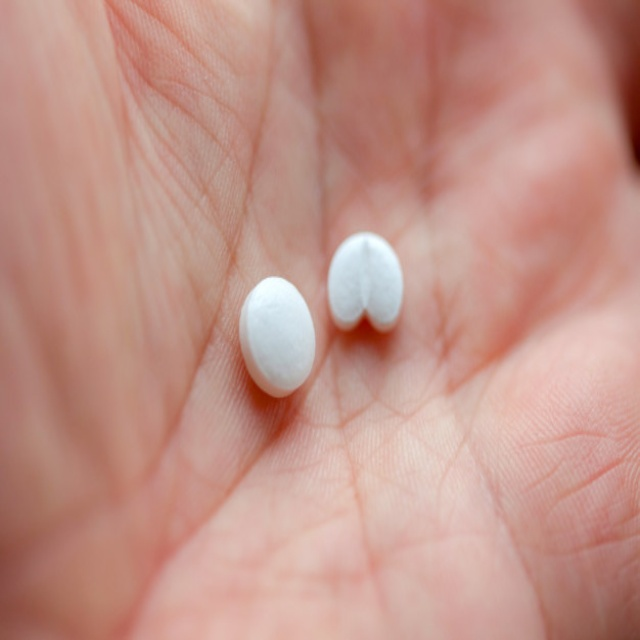pill: (233, 177, 309, 260), (318, 150, 395, 217)
